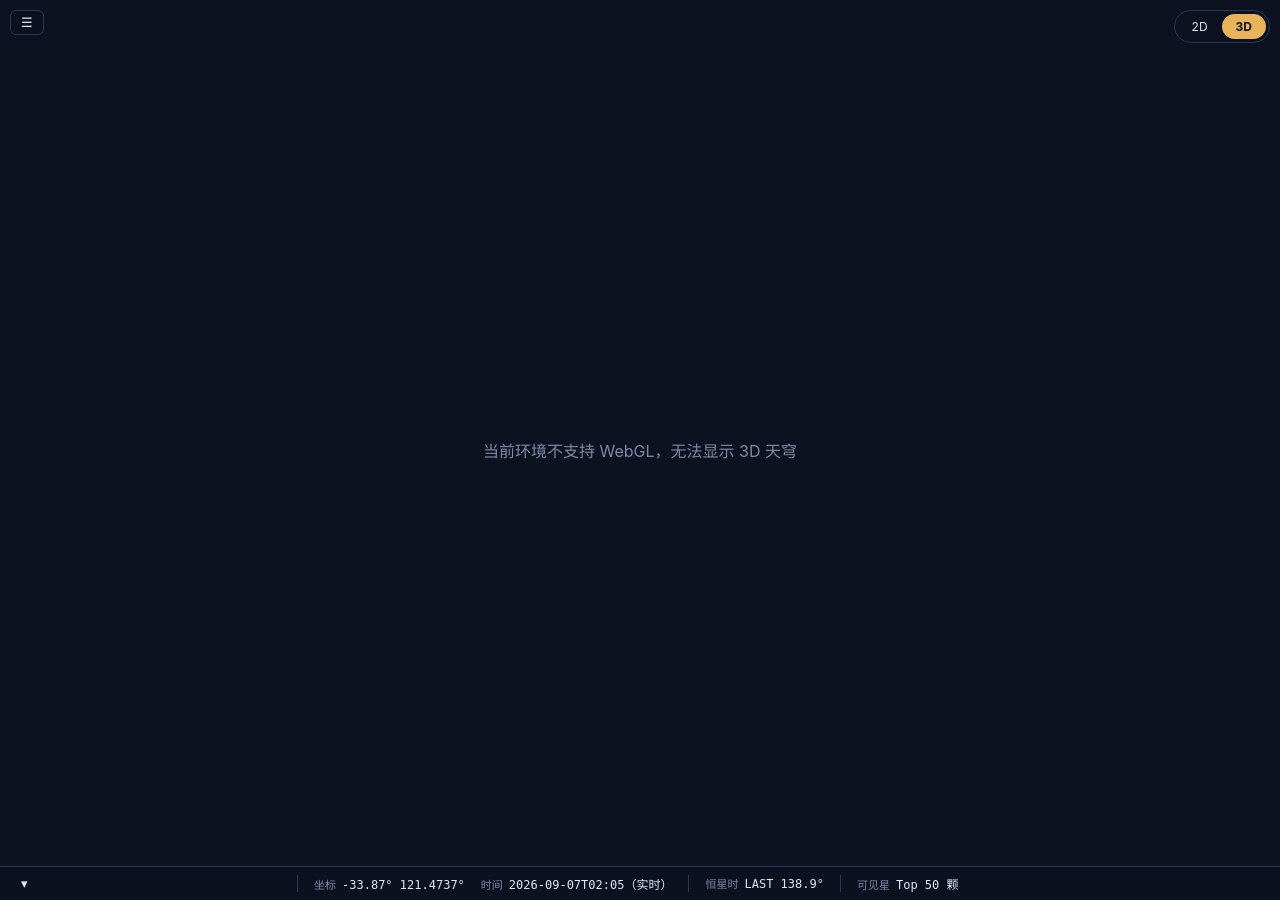
Test: App › Top N 限制可见星数量
The width and height of the screenshot is (1280, 900).
Step 1. Click the button named "菜单" → [27, 22], box [10, 10, 44, 35]
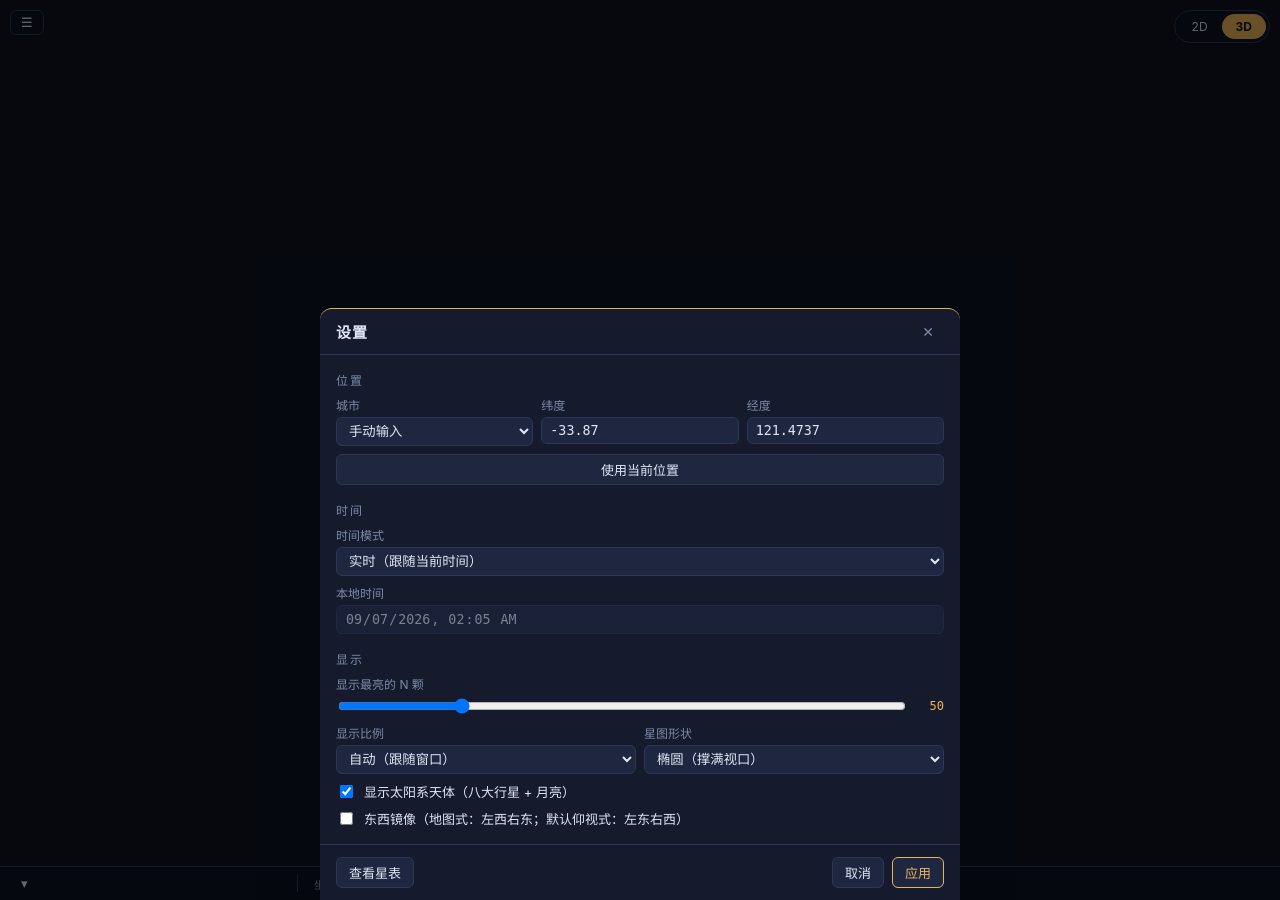
Step 2. Set the slider named "Top N 亮星" to "12" → [352, 706], box [338, 698, 906, 714]
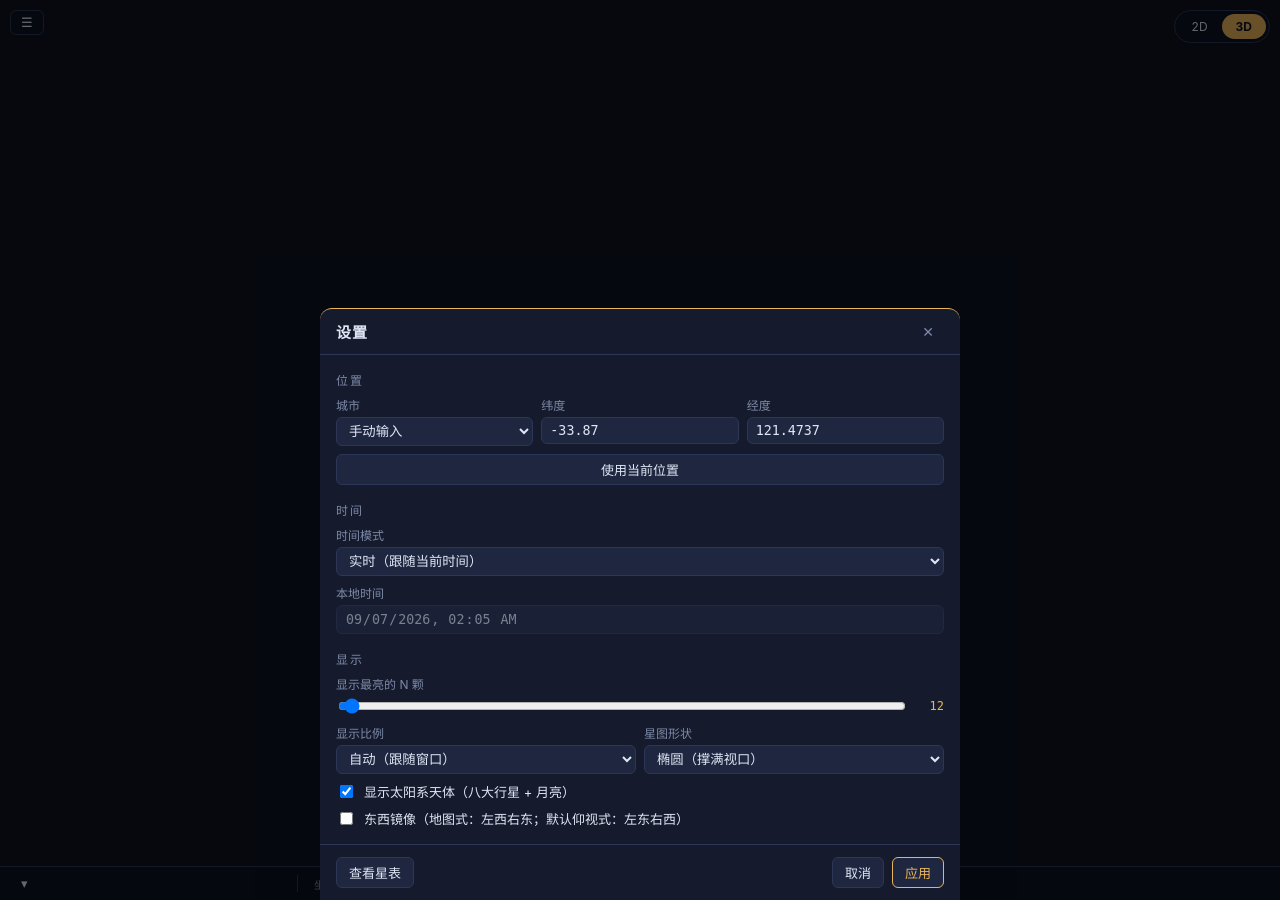
Step 3. Click the button "应用" → [918, 872], box [892, 857, 944, 888]
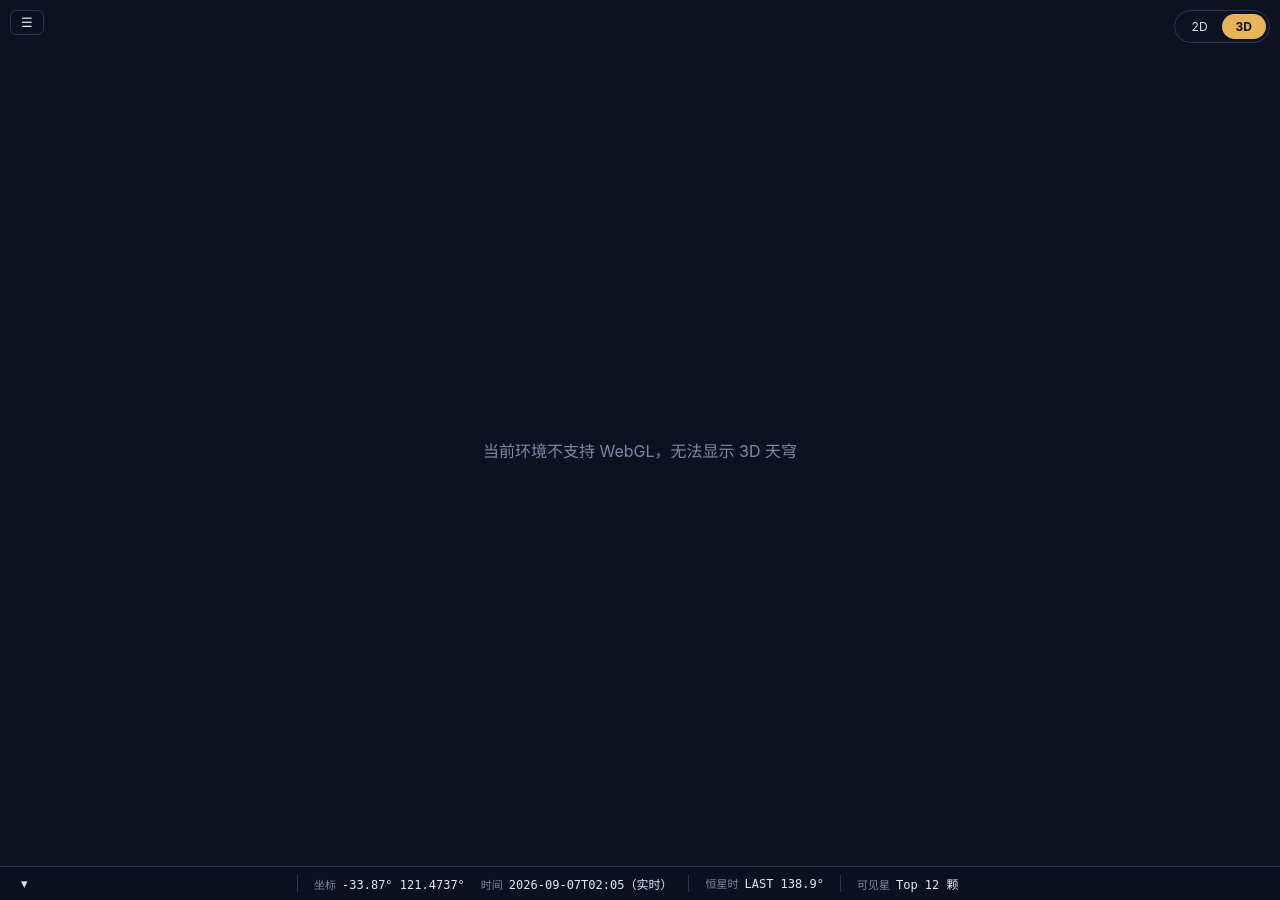
Now the element with test id "summary" shows "Top 12 颗", box [896, 878, 958, 892]
